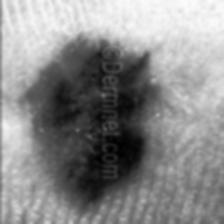Potentially Malignant Skin Tumors: (40, 47, 93, 203), (119, 53, 156, 178)
